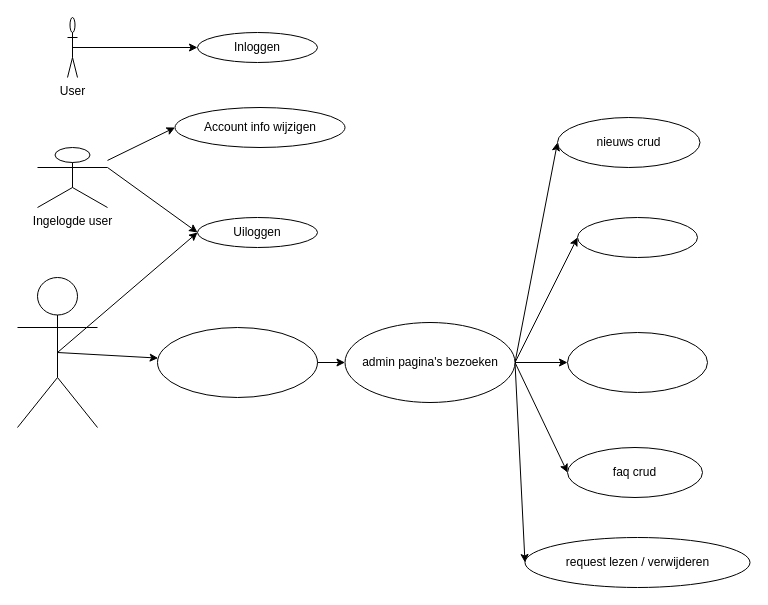
The diagram is 768 pixels wide and 605 high, and some of its shapes have lost their labels. Here are the shapes that lost their labels. From the top down, the box of each, then its label:
(576, 216, 698, 258): crud product
(16, 276, 98, 428): Ingelogde Admin
(156, 326, 318, 398): admin button zien op de account pagina
(566, 332, 708, 392): admins wijzigen
